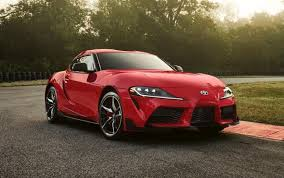Toyota: (77, 48, 238, 135)
